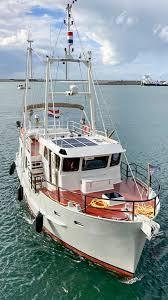Ship: (11, 1, 160, 278)
